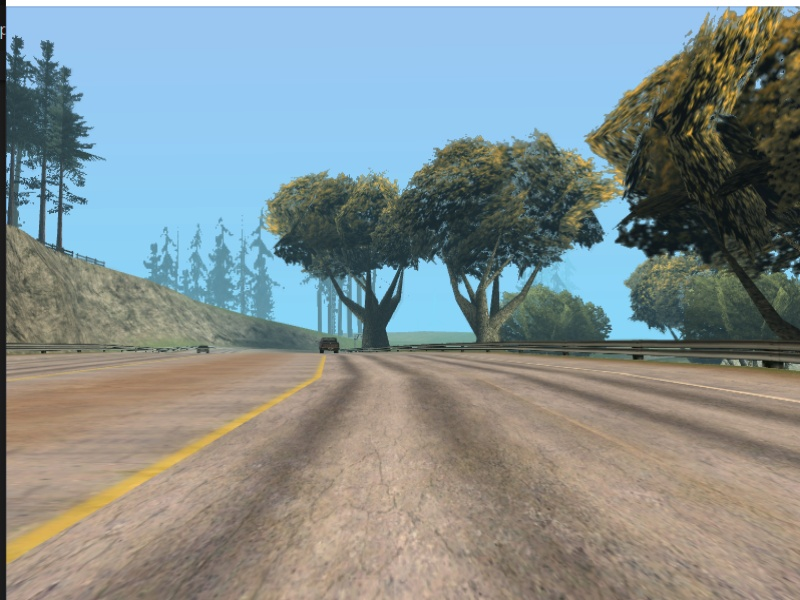vehicle: (317, 333, 343, 356), (196, 343, 209, 357)
